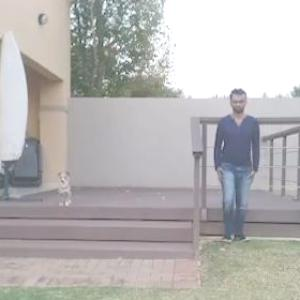follow: (212, 80, 260, 254)
